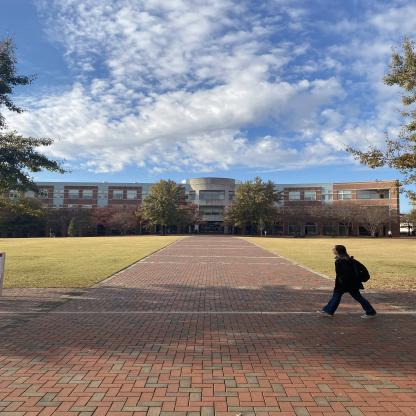EB-1: (0, 176, 410, 235)
